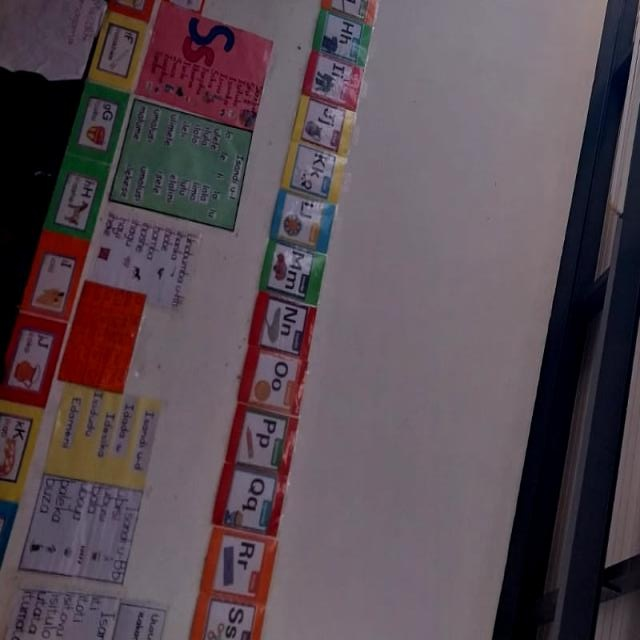fluorescent tube: (582, 0, 640, 237)
